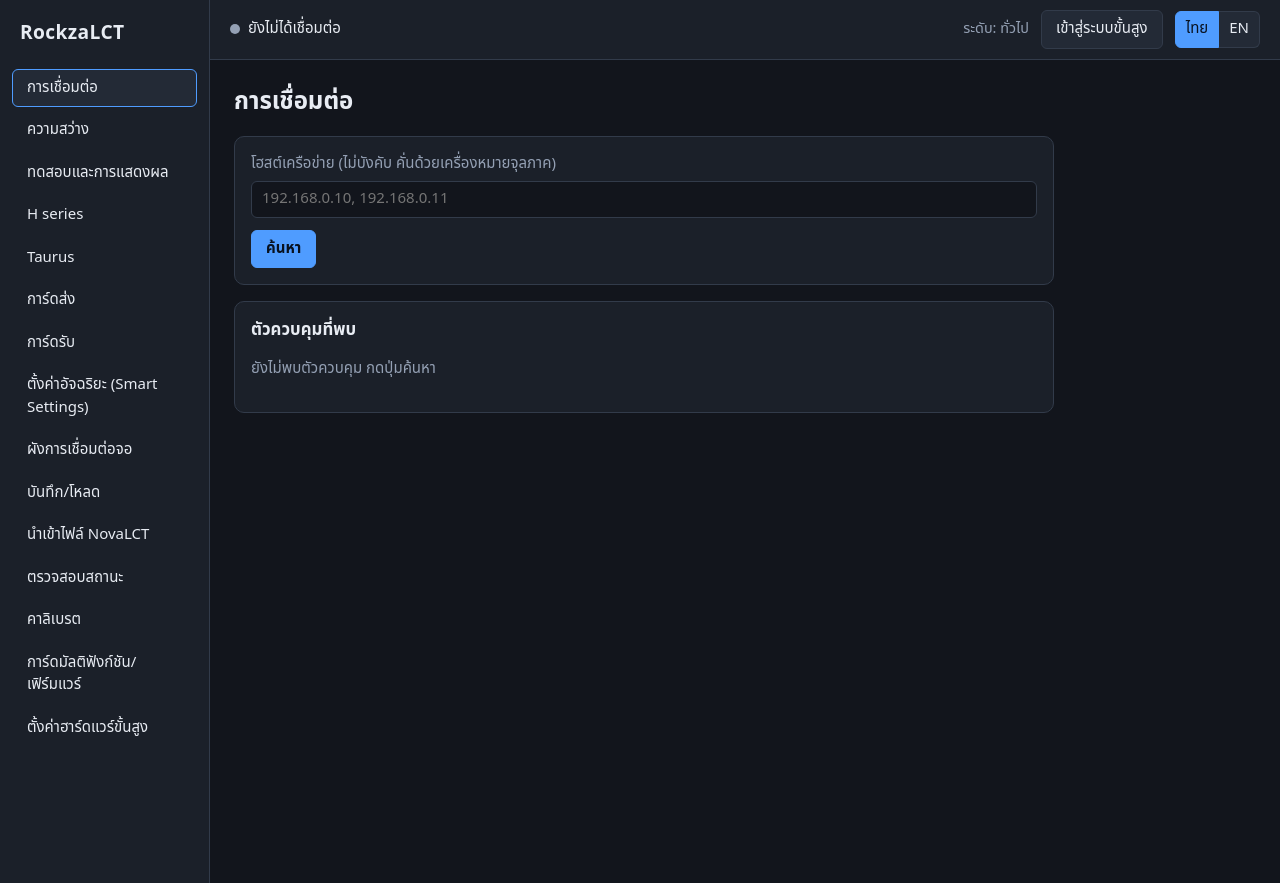
Test: PersistPage: help and disconnected state › shows the Thai text
Click the button "บันทึก/โหลด". click: (104,493)
box: [12,474,197,512]
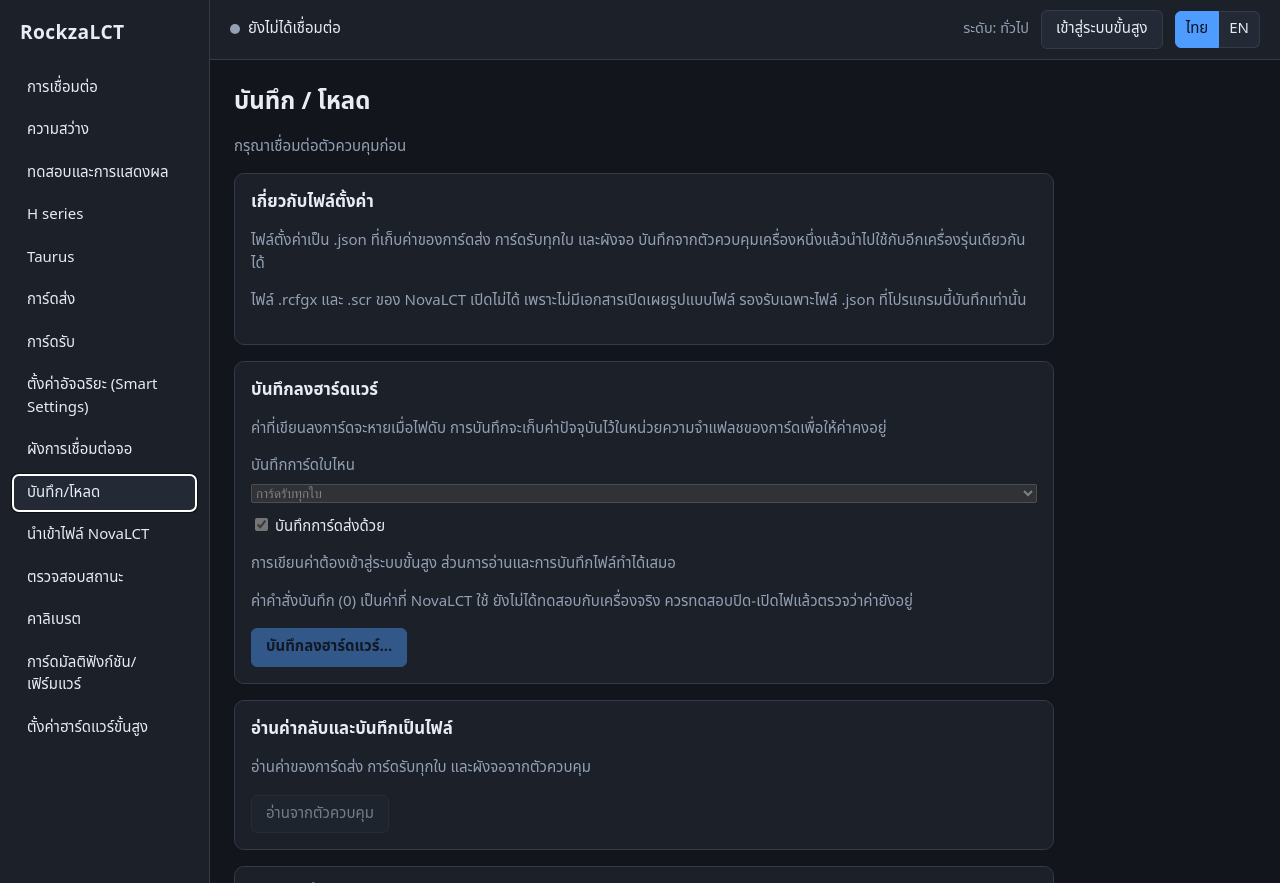
Expected: the heading "บันทึก / โหลด" is shown, [234,84,370,120]
Expected: the text with test id "persist-nova-note" shows ".rcfgx", [251,289,1026,312]
